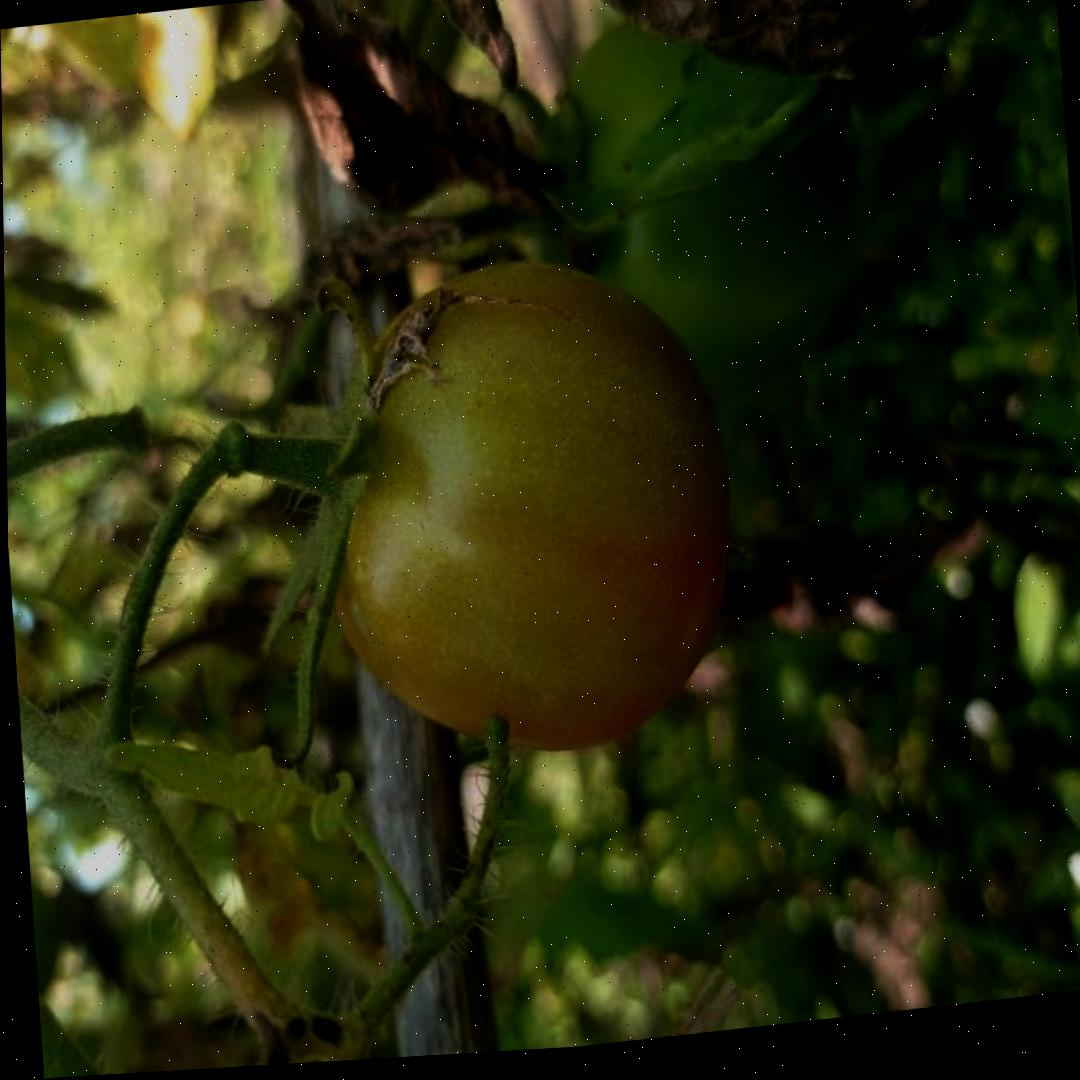setengah_matang: (302, 232, 749, 781)
